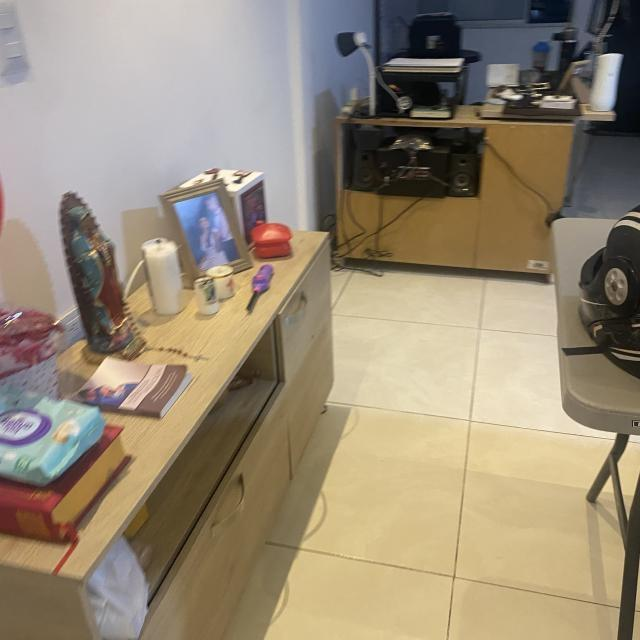obstacle: (6, 172, 327, 607), (318, 19, 640, 279), (523, 198, 640, 622)
